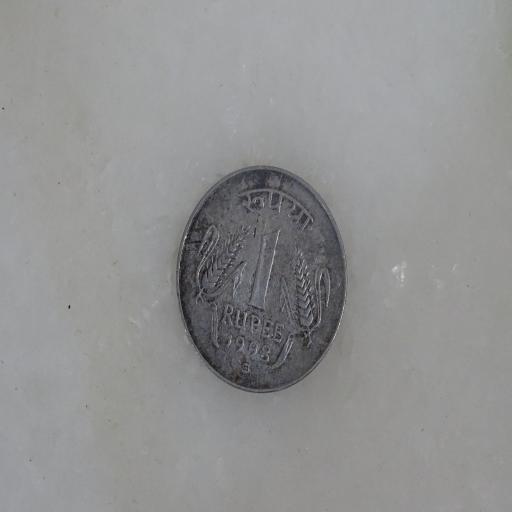rupee1: (174, 166, 347, 393)
